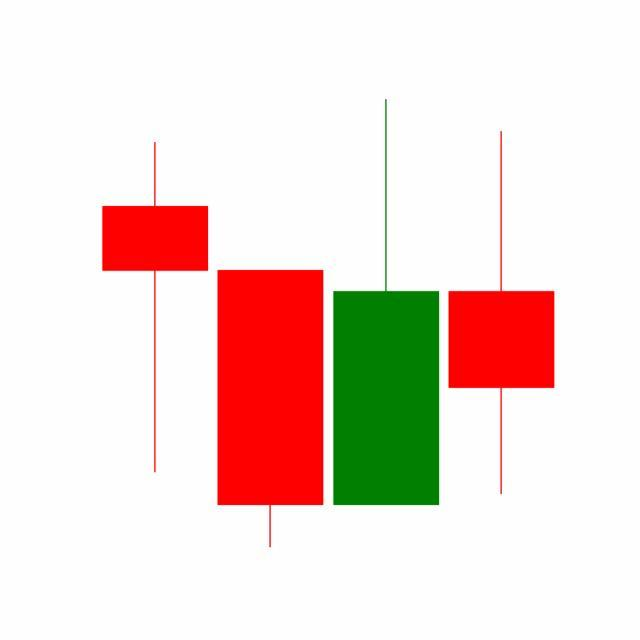Spinning Top: (444, 128, 560, 499)
